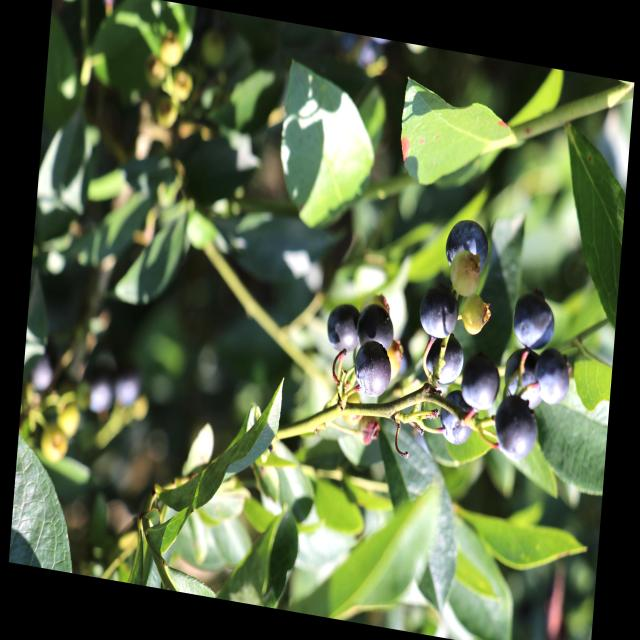blueberry: (439, 210, 492, 284), (499, 342, 545, 415), (493, 397, 541, 464), (511, 289, 557, 355), (416, 278, 462, 344), (351, 336, 394, 402), (423, 330, 466, 393), (356, 300, 396, 360), (460, 354, 500, 413), (533, 348, 571, 407), (439, 388, 475, 449), (326, 304, 360, 357)
blueberry-unripe: (446, 251, 482, 297), (458, 294, 493, 338)
